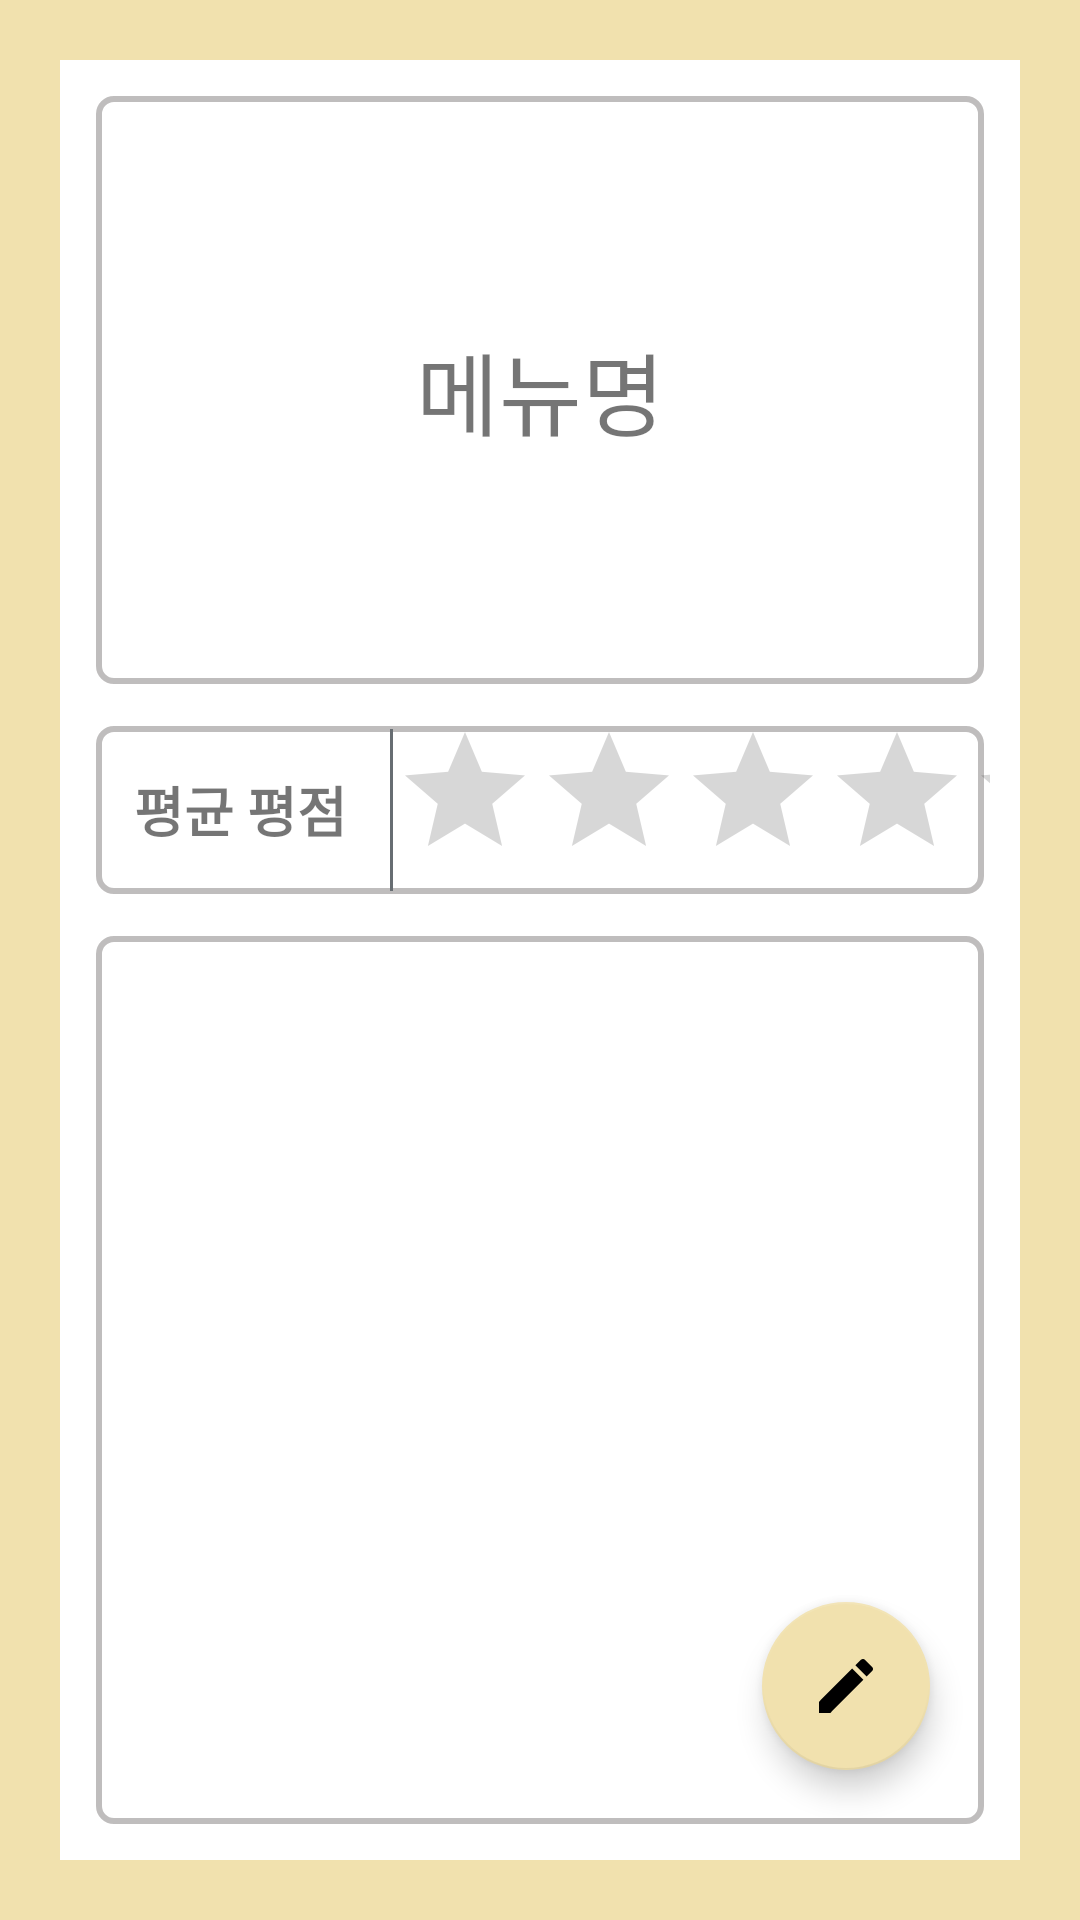

Icon bounding boxes for this 1080 x 1920 phone screenshot, format (x1, y1, x2, y2):
edit: (762, 1602, 930, 1770)
